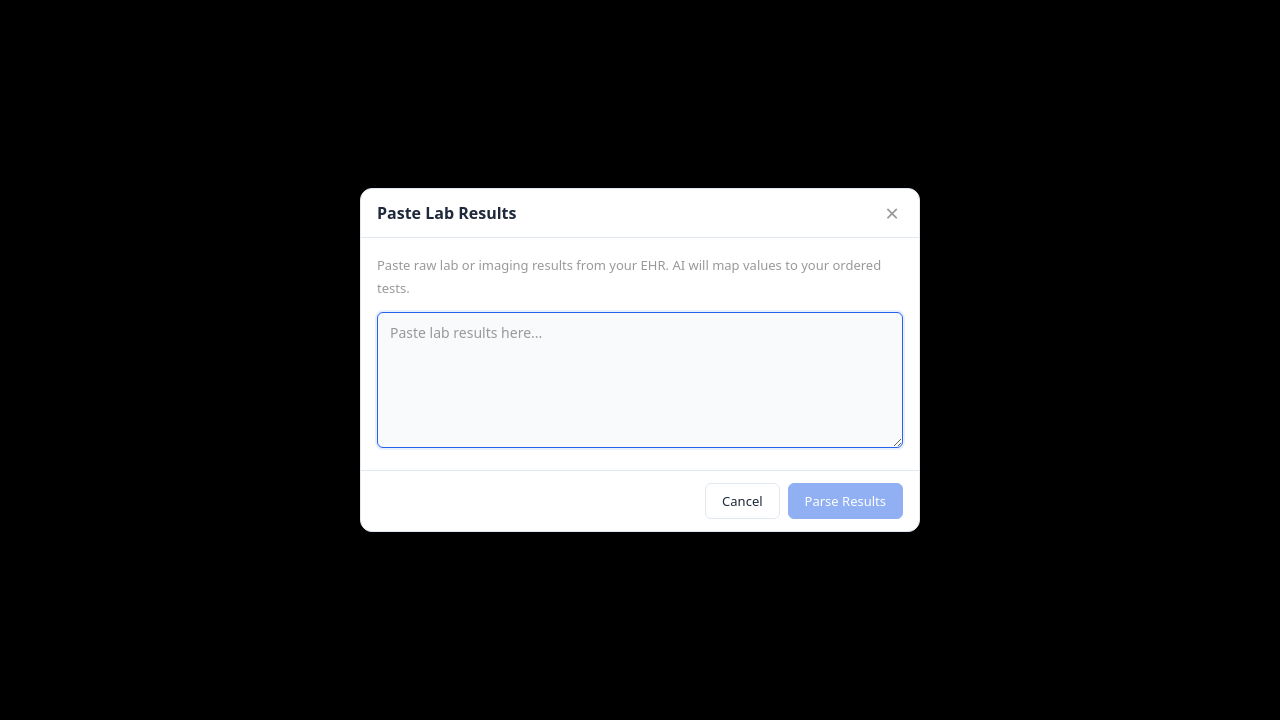
Test case: PasteLabModal › enables parse button when text is entered
The width and height of the screenshot is (1280, 720).
Type "CBC: 8500 WBC" into the text box with test id "paste-textarea". click: (640, 380)
box: [377,312,903,448]
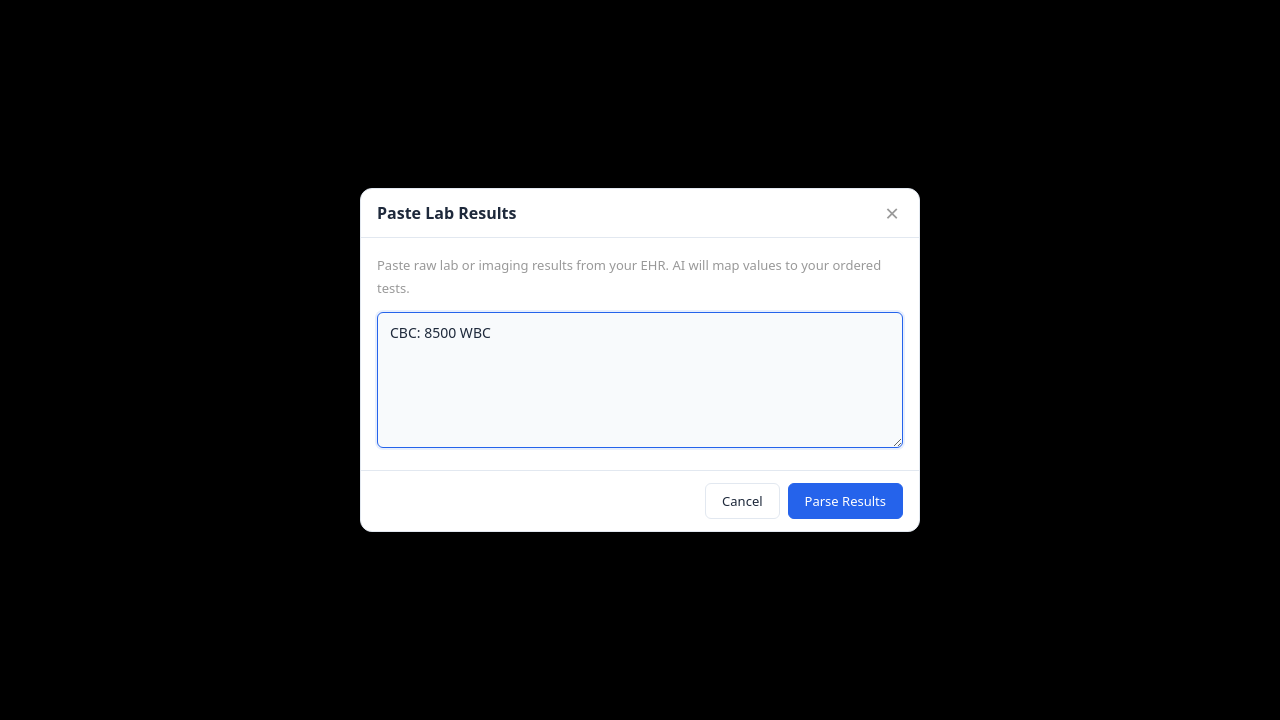
Result: the button with test id "parse-btn" is enabled at [788,483,903,519]
